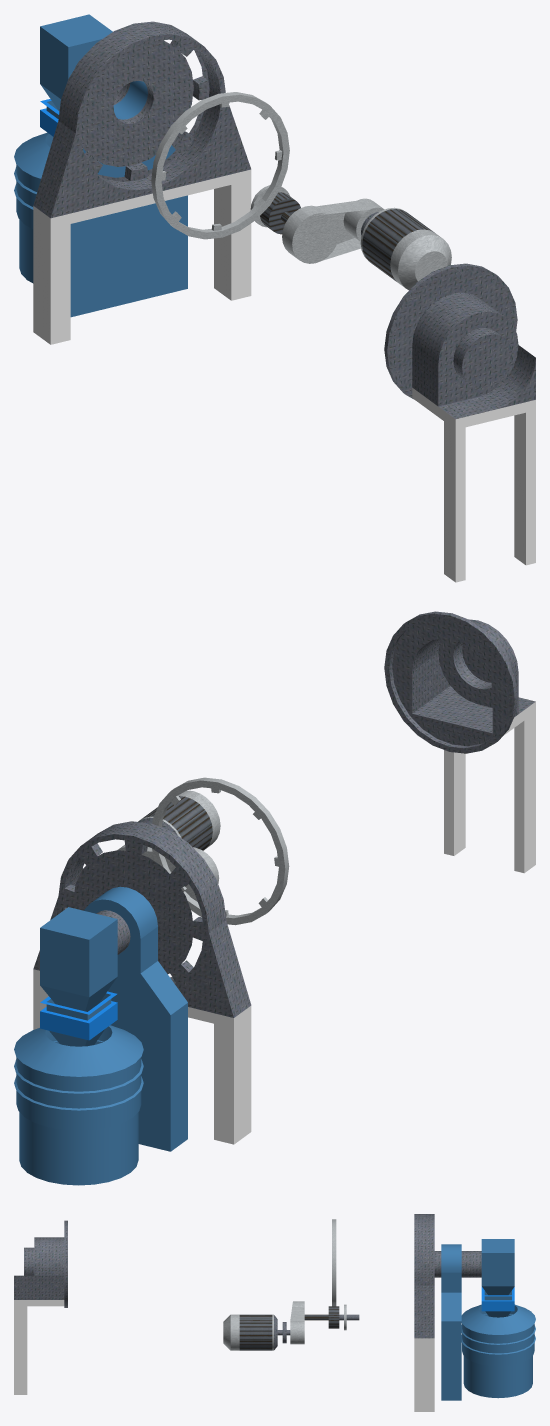
The model's file is 干磨机支撑.glb.
3 renders of one model, top to bottom at view 1: azimuth 30°, elevation 25°; view 2: azimuth 150°, elevation 25°; view 3: azimuth 270°, elevation 25°, orthographic. The views are drawn at different scales.
Parts seen in each view (by area): view 1: root; view 2: root; view 3: root.
Part boxes in pixels (<box>): root: <box>14,14,535,582</box>; root: <box>14,611,535,1185</box>; root: <box>14,1214,535,1411</box>.
Bounding box in the file's own units: 2.42 × 2.7 × 7.76.
7 materials, 4 textured.
